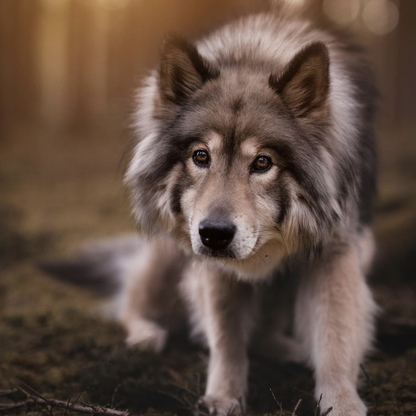husky: (31, 1, 398, 413)
